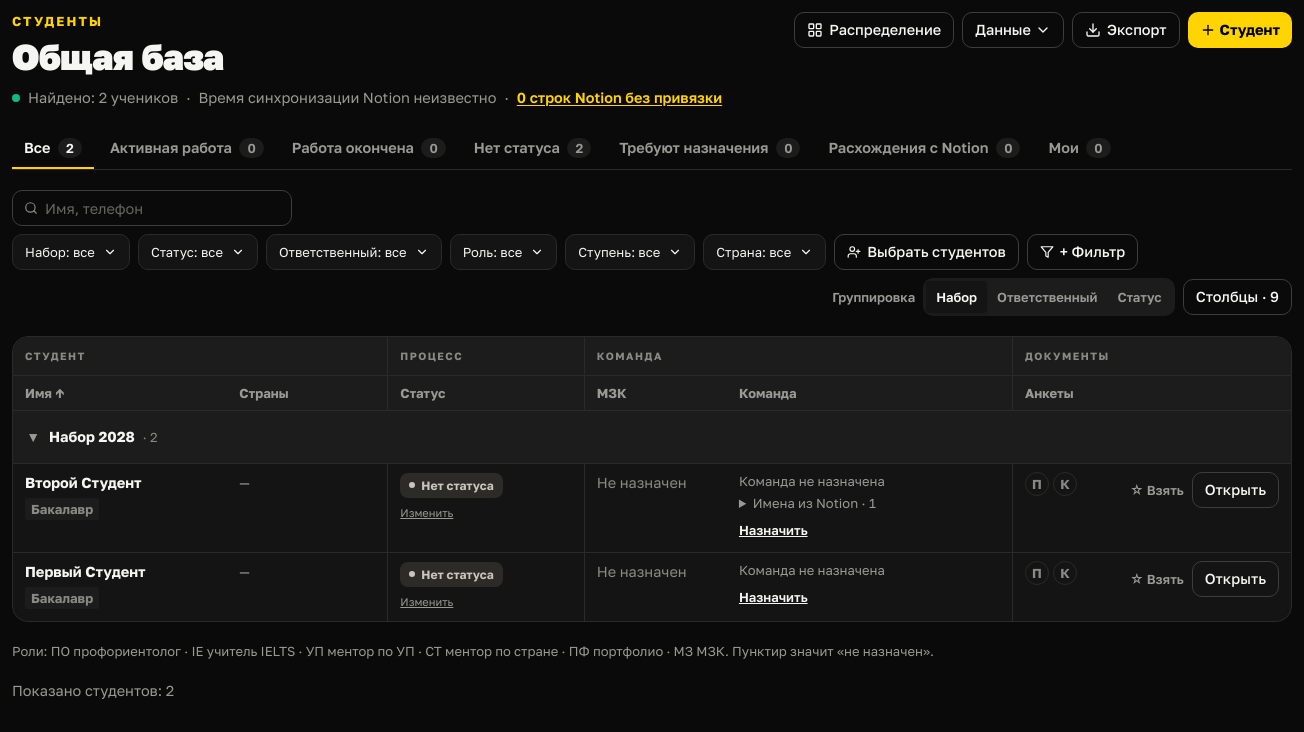
назначение ответственных из общей базы › галочки скрыты до включения режима выбора
Check: the button "Первый Студент" is shown, box [25,561,146,583]
Check: the text "Назначить:" is not shown
Click the button "Выбрать студентов" at (926, 252), box [834,234,1019,270]
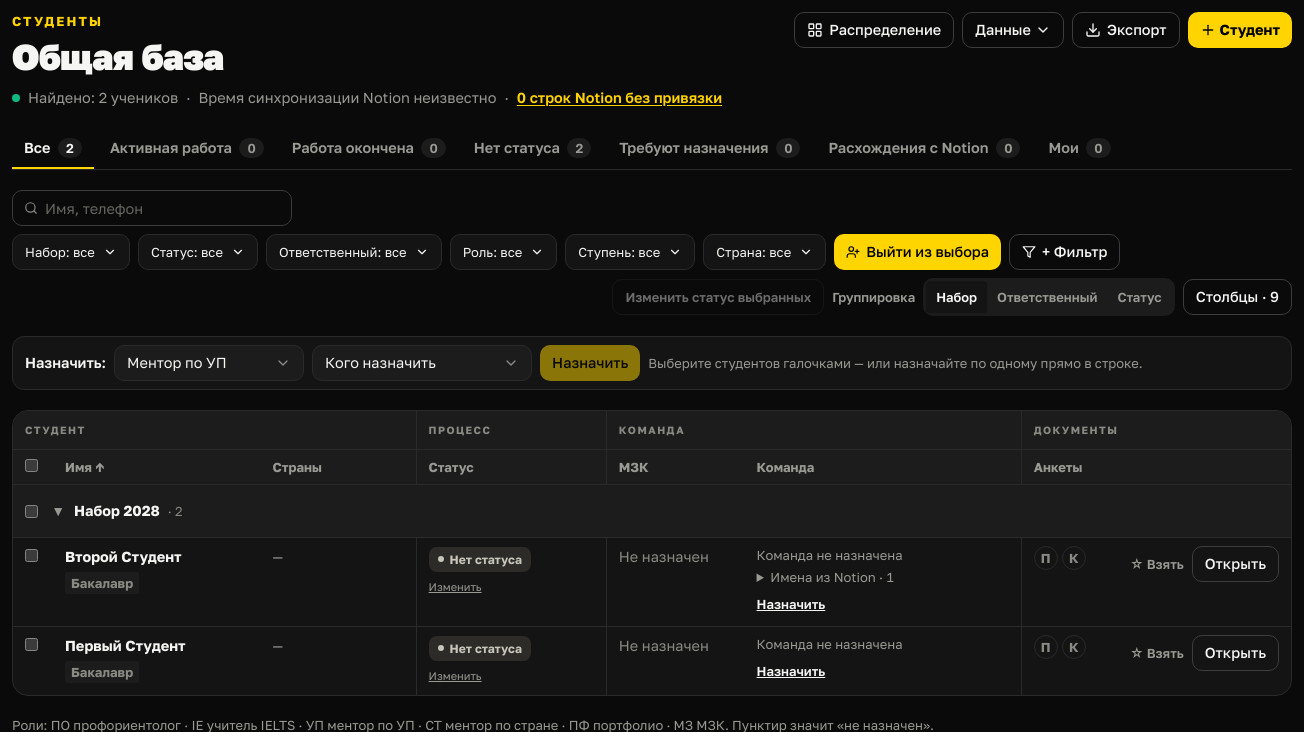
Check: the checkbox named "Выбрать Первый Студент" is shown, box [25,638,38,651]
Check: the checkbox named "Выбрать всех в текущем виде" is shown, box [25,459,38,472]
